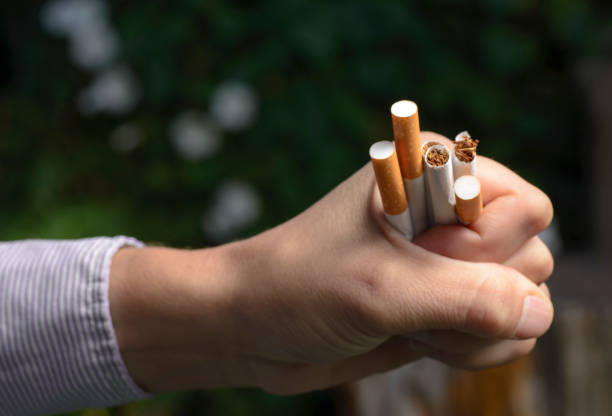cigarette: (390, 99, 426, 238), (369, 139, 414, 243), (424, 144, 458, 226), (454, 174, 485, 225), (451, 130, 477, 175)
